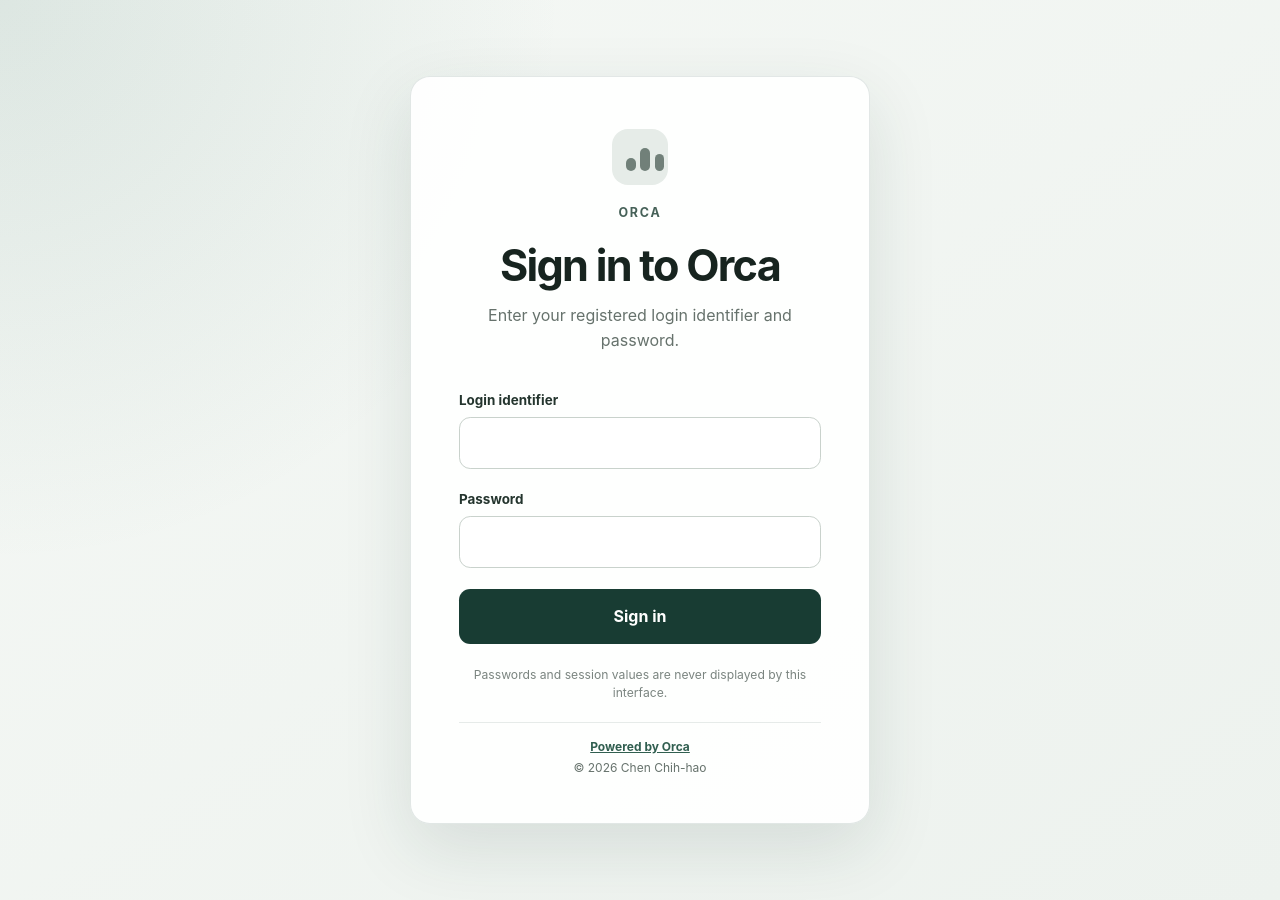
frontend login result shell › shows the stable login rejection and opaque reference
This screenshot has width=1280, height=900.
Type "orca-user" into the field labelled "Login identifier". click: (640, 443)
box: [459,417,821,469]
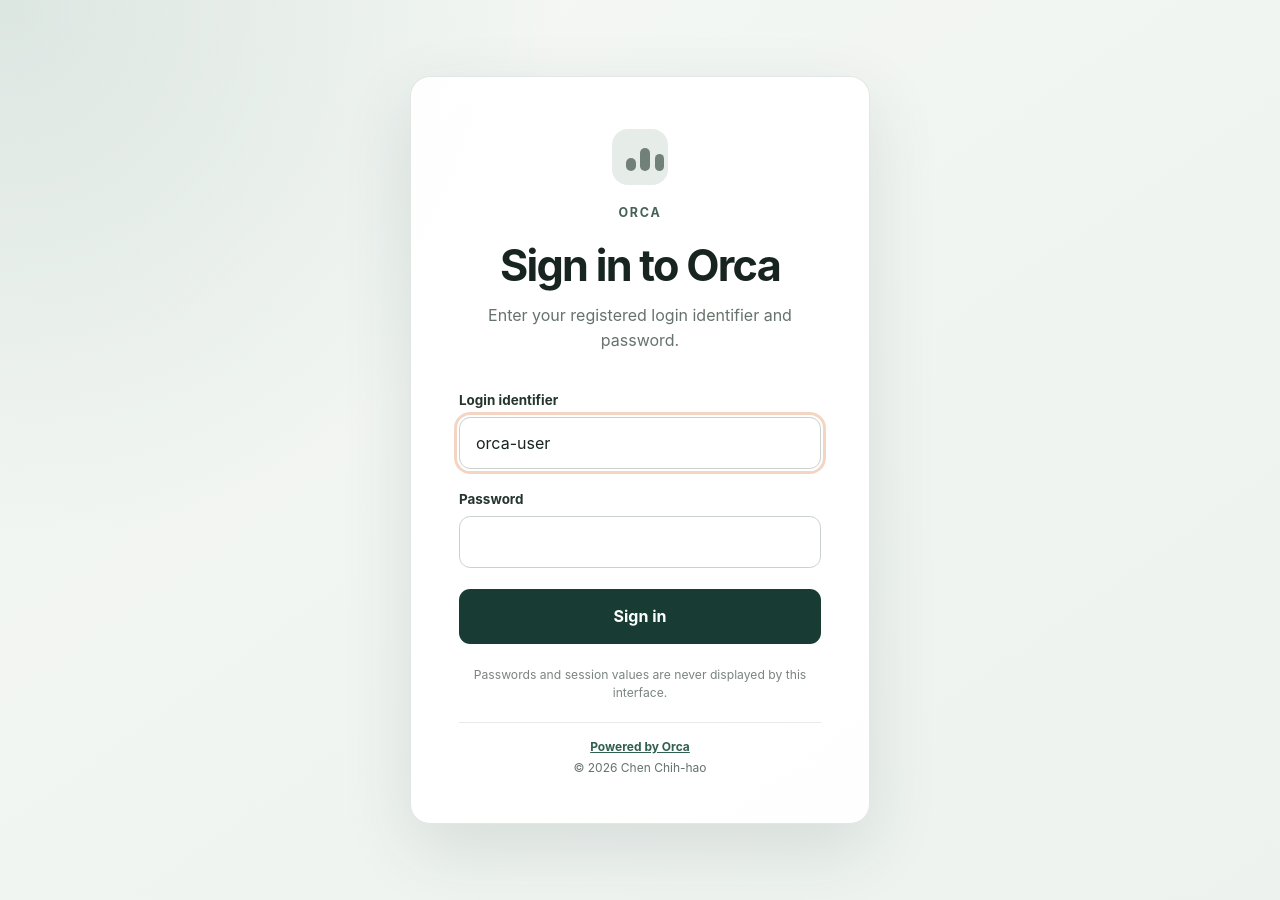
Type "password" into the password field labelled "Password". click: (640, 542)
box: [459,516,821,568]
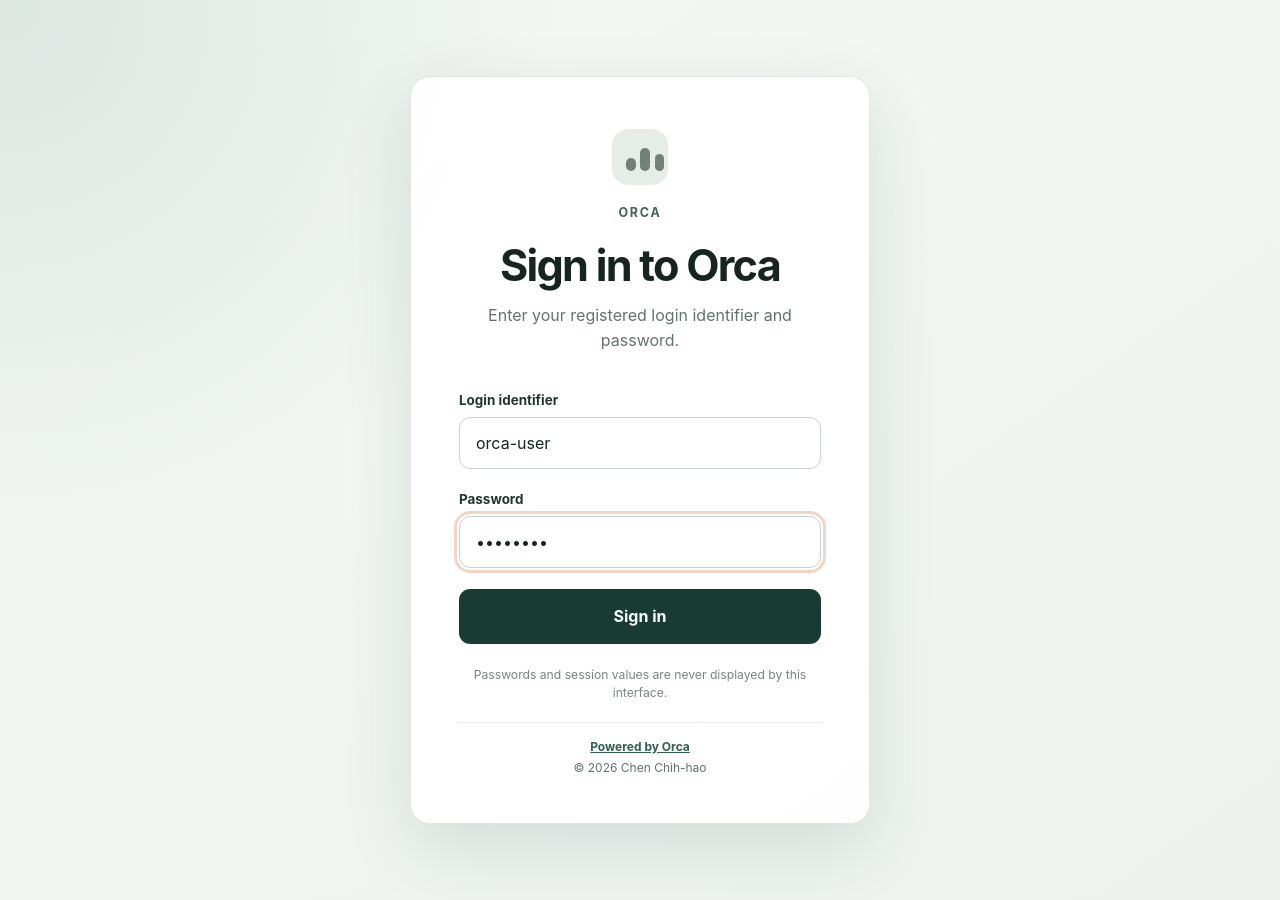
Click the button "Sign in". click: (640, 616)
box: [459,589,821,644]
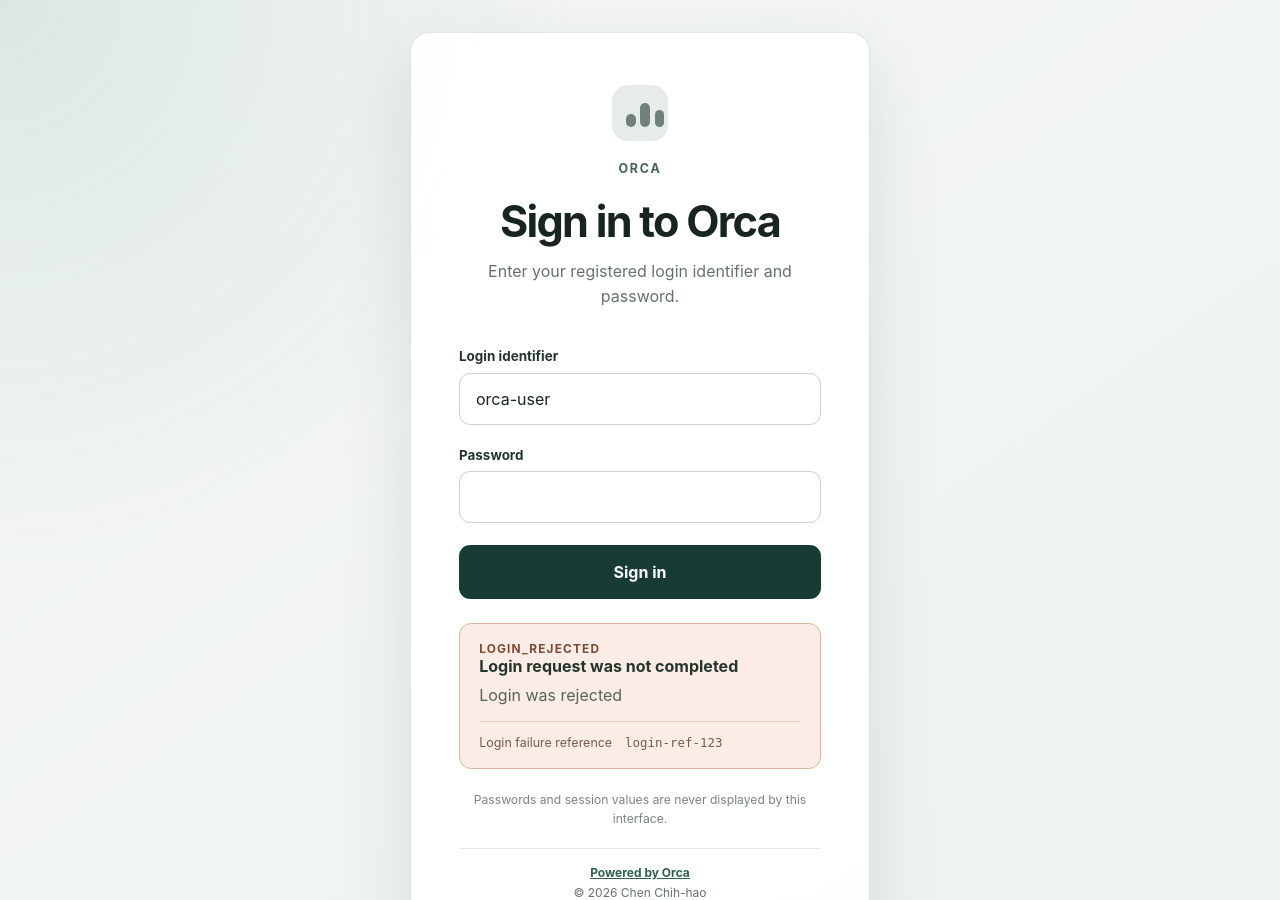
Result: the message shows "LOGIN_REJECTED" at [479,642,600,656]
Result: the message shows "Login was rejected" at [479,685,622,705]
Result: the text "Login failure reference" is shown at [479,735,612,750]
